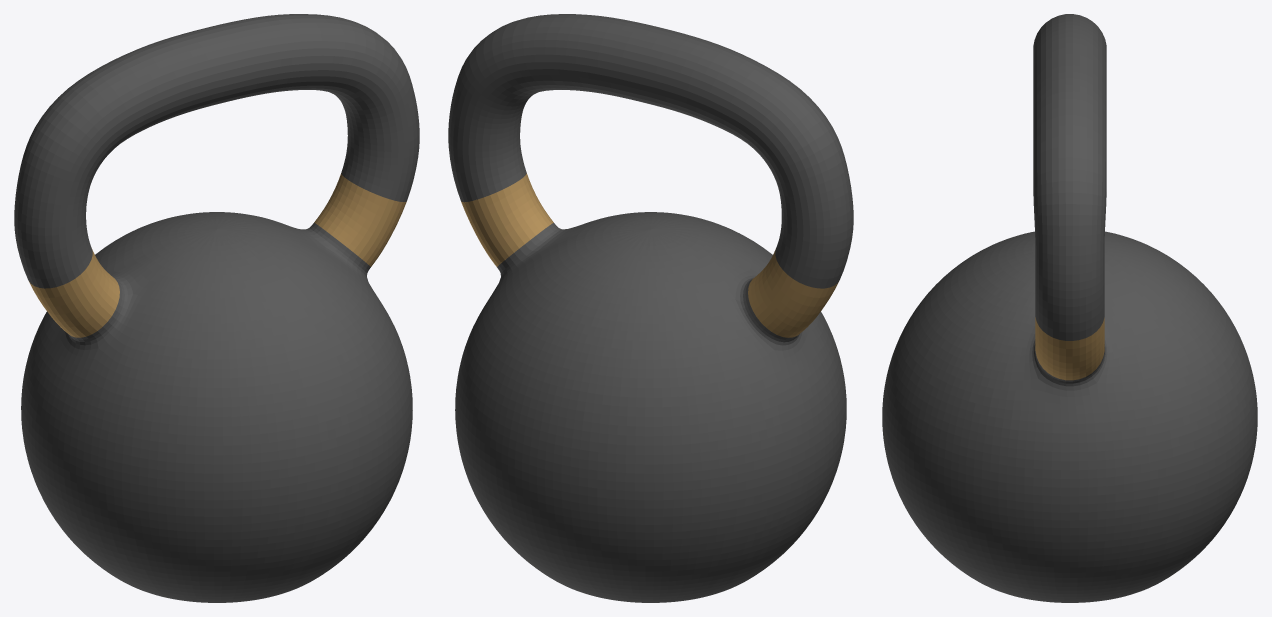
Rendered from kettlebell.glb.
3 views of the same model, side by side, from view 1: azimuth 30°, elevation 25°; view 2: azimuth 150°, elevation 25°; view 3: azimuth 270°, elevation 25° (orthographic). The views are drawn at different scales.
Parts seen in each view (by area): view 1: Object_4, Object_5; view 2: Object_4, Object_5; view 3: Object_4, Object_5.
Boxes of the visible parts, box(x1,y1,x2,y2) form: Object_4: box(14, 14, 419, 602); Object_5: box(29, 173, 406, 337); Object_4: box(448, 14, 853, 602); Object_5: box(461, 173, 838, 337); Object_4: box(882, 14, 1257, 602); Object_5: box(1035, 317, 1104, 380).
Bounding box in the file's own units: 0.2115 × 0.27 × 0.1814.
